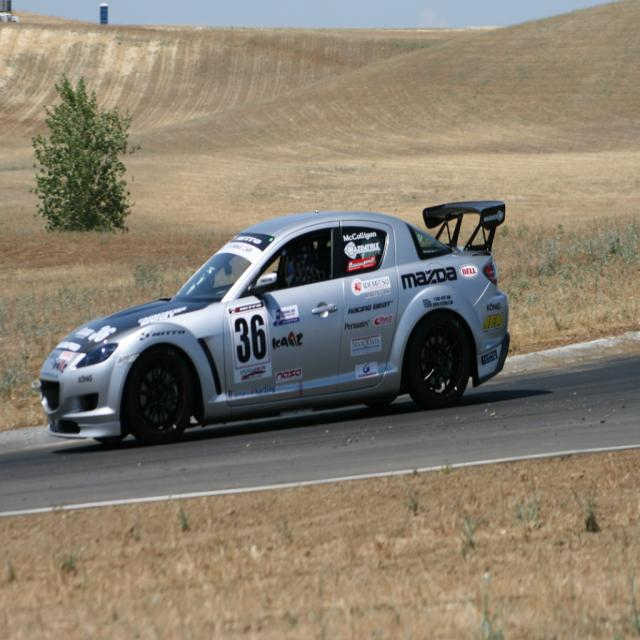car: (32, 200, 512, 450)
